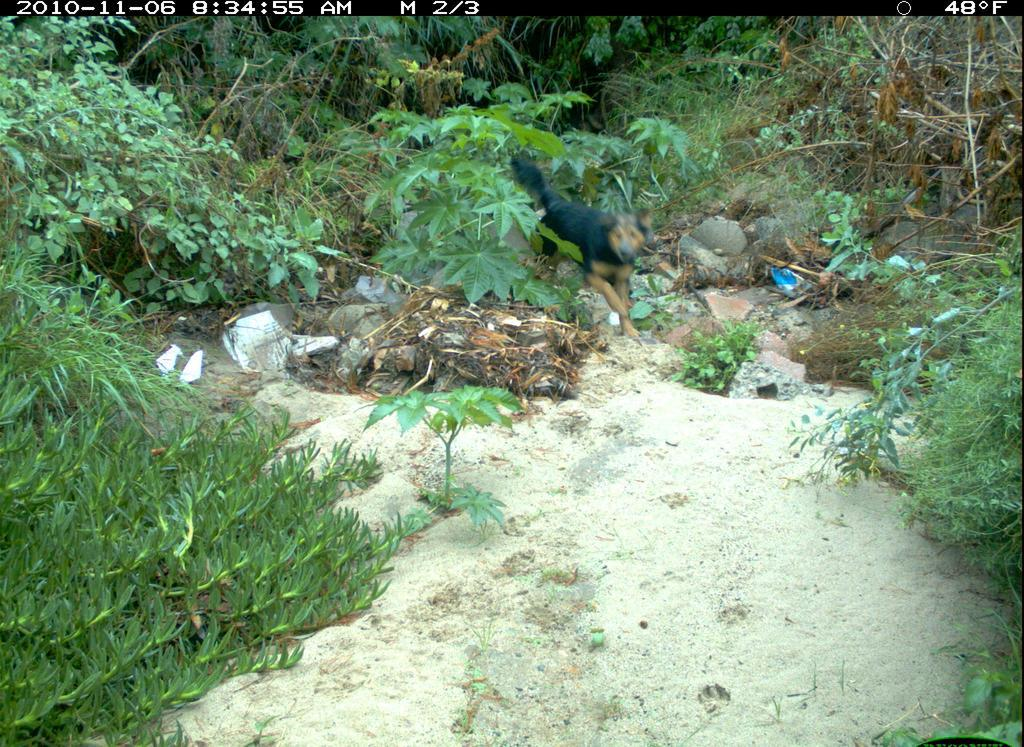dog: (501, 140, 675, 359)
